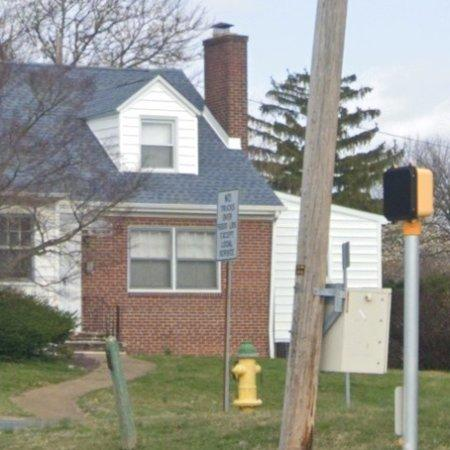a fire hydrant: (232, 342, 263, 409)
chimneys: (203, 22, 249, 153)
